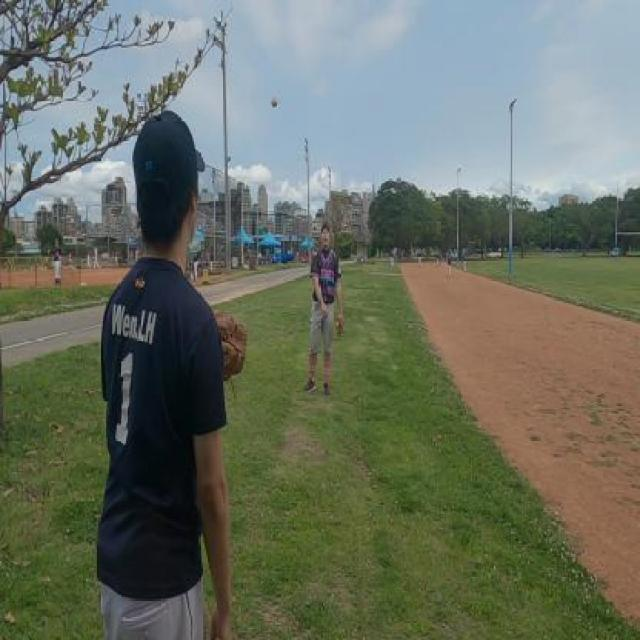baseball: (272, 96, 278, 109)
